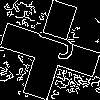J: (25, 25, 76, 63)
